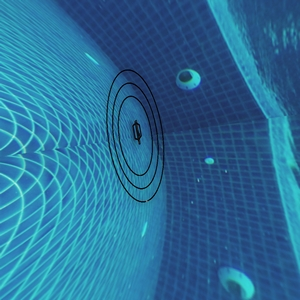circle: (66, 62, 194, 213)
submarine: (131, 121, 141, 140)
